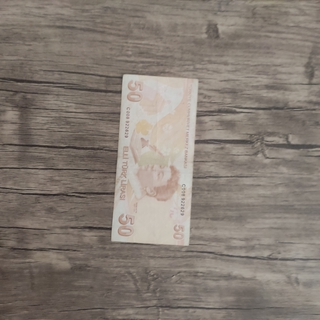50TLBack: (110, 73, 199, 246)
